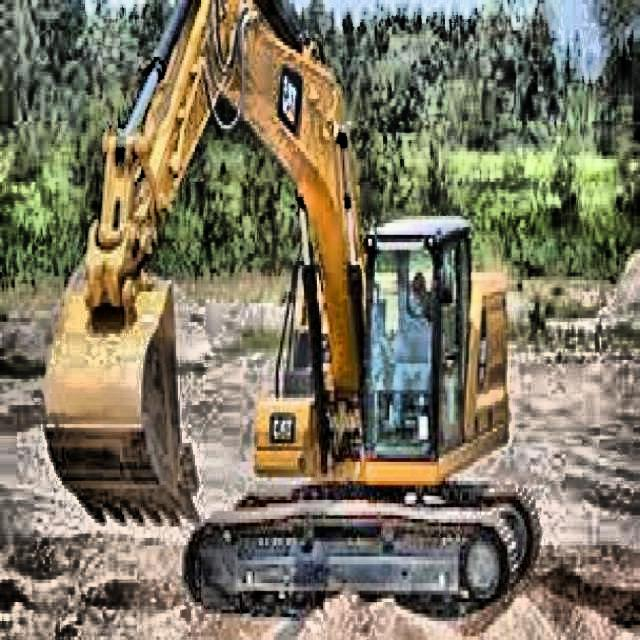bull_dozer/loader/grader: (40, 0, 543, 613)
person: (386, 268, 434, 434)
